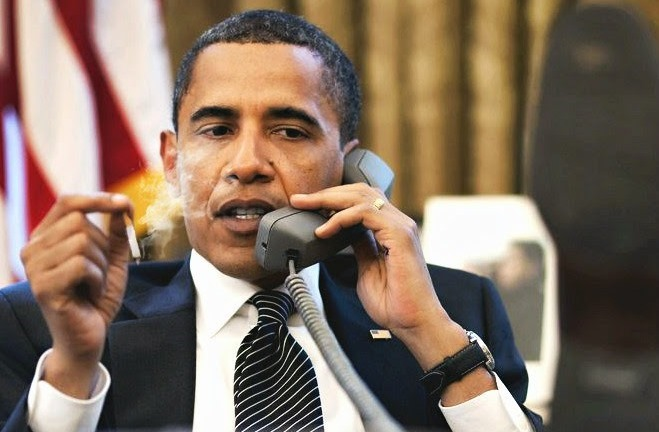cigarette: (107, 194, 151, 274)
